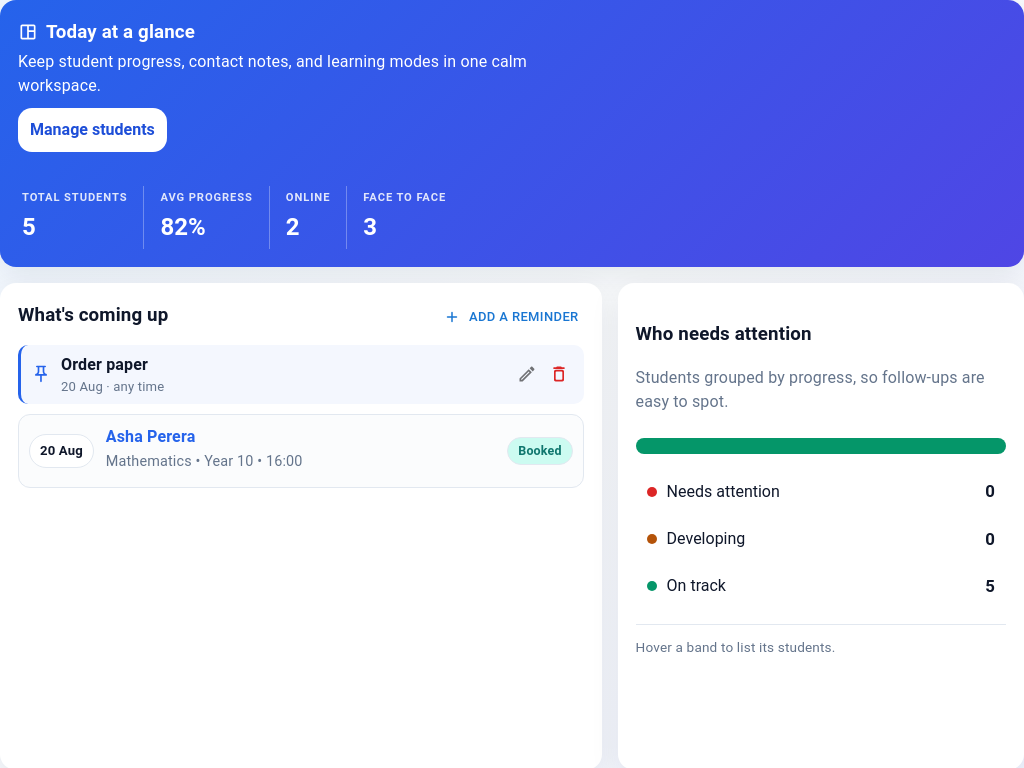
Test case: DashboardView reminders (REQ-057) › backs out of adding and of editing, changing nothing
Click the button "Add a reminder": x=512, y=317 [440,302,584,333]
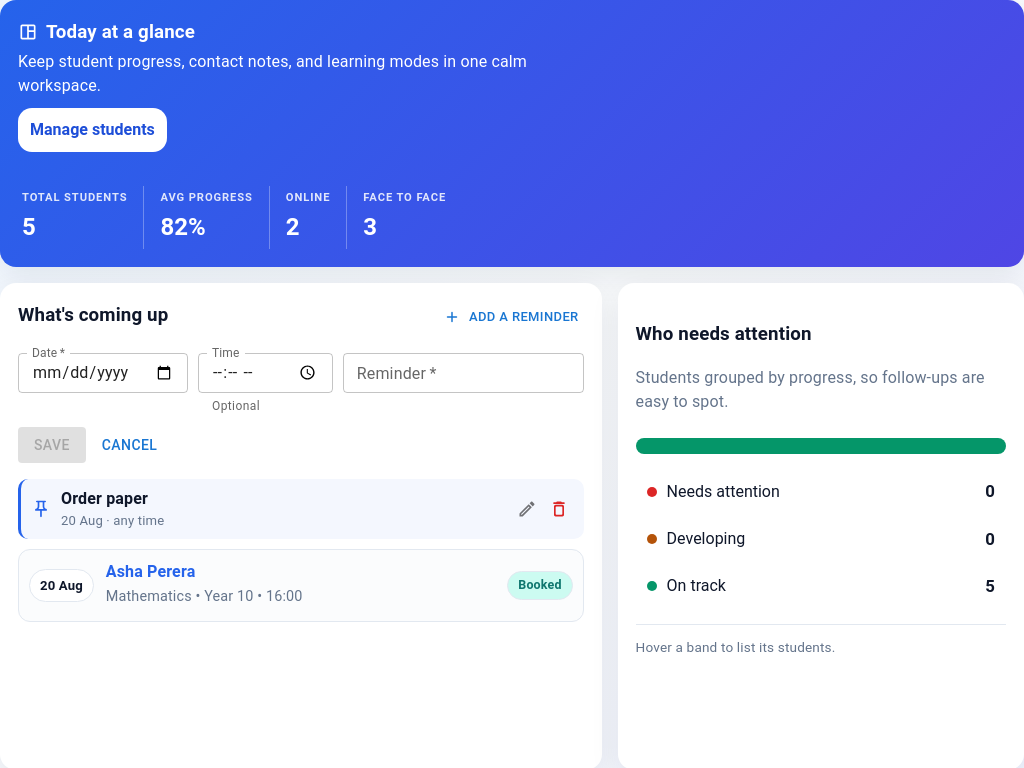
Click the button "Cancel": x=130, y=445 [94,426,165,463]
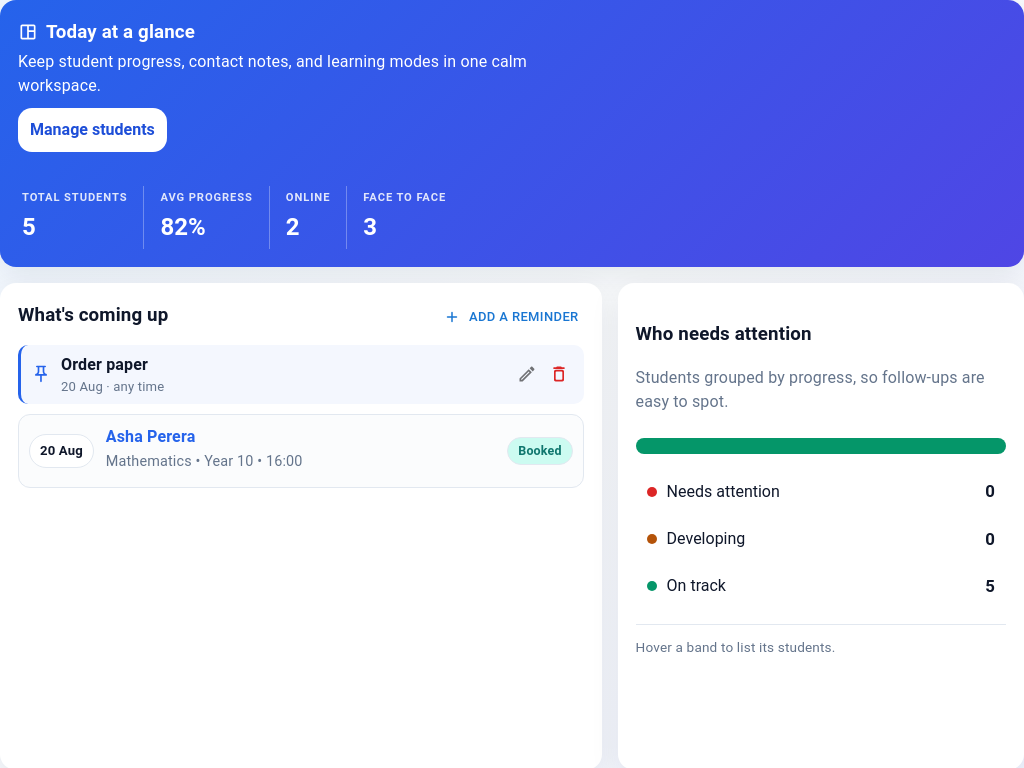
Expected: the button "Save" is gone
Click the button named "edit reminder: order paper": x=527, y=374 [512,360,542,390]
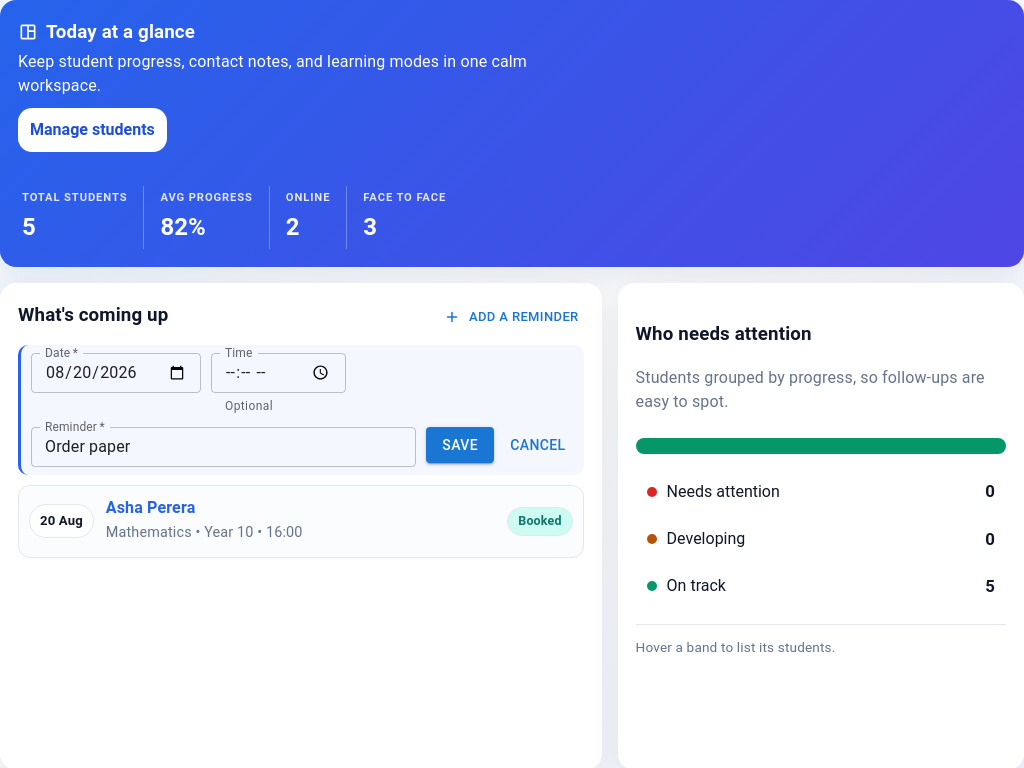
Click the button "Cancel": x=538, y=445 [502,426,574,463]
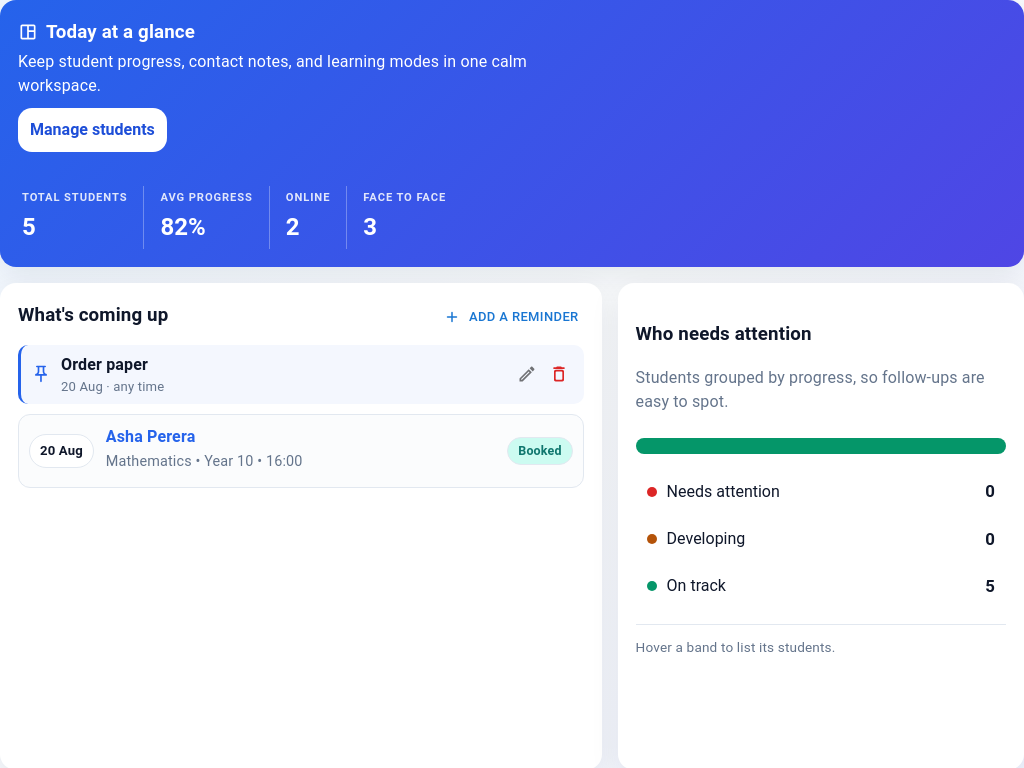
Expected: the text "Order paper" is shown, [61,355,148,374]
